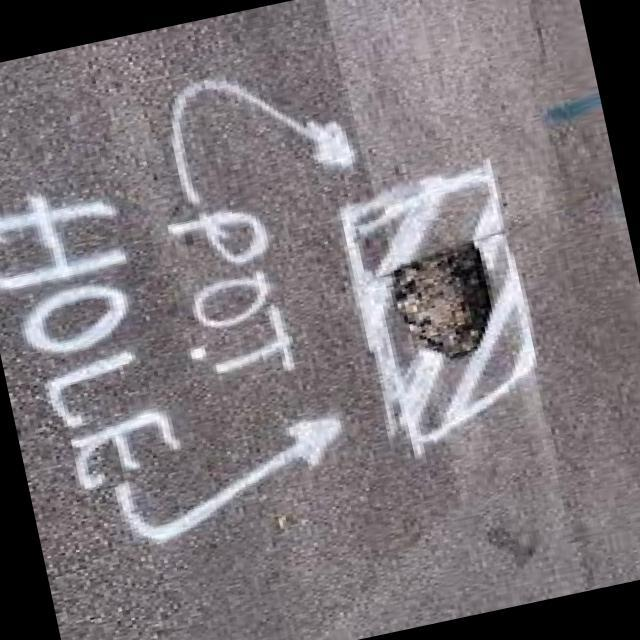pothole: (362, 188, 524, 410)
